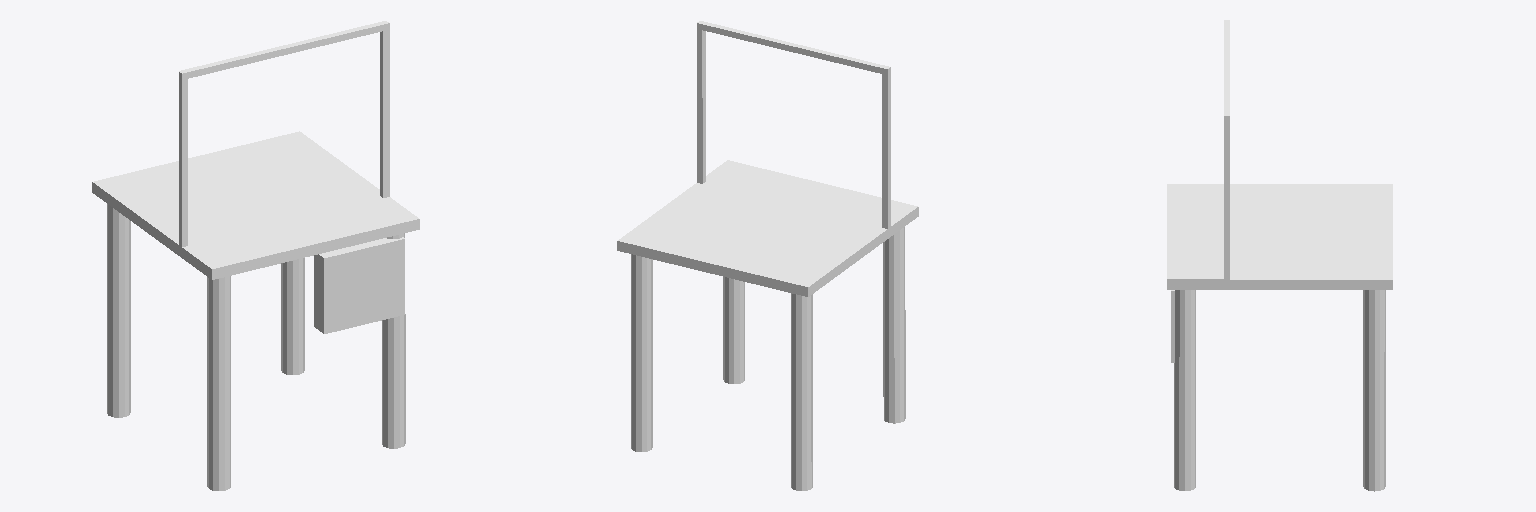
URDF robot description (table_fix):
<robot
  name="table_fix">
  <link
    name="table">
    <inertial>
      <origin
        xyz="-0.0051994 -0.73155 0.047363"
        rpy="0 0 0" />
      <mass
        value="83.702" />
      <inertia
        ixx="19.272"
        ixy="-5.4421E-15"
        ixz="-1.1988E-15"
        iyy="19.98"
        iyz="-0.40239"
        izz="19.55" />
    </inertial>
    <visual>
      <origin
        xyz="0 0 1"
        rpy="1.57 0 0" />
      <geometry>
        <mesh
          filename="package://table_fix/meshes/table.STL" />
      </geometry>
      <material
        name="">
        <color
          rgba="1 1 1 1" />
        <texture
          filename="package://table_fix/textures/table_color.jpg" />
      </material>
    </visual>
    <collision>
      <origin
        xyz="0 0 0"
        rpy="0 0 0" />
      <geometry>
        <mesh
          filename="package://table_fix/meshes/table.STL" />
      </geometry>
    </collision>
  </link>
  <link
    name="left_basket">
    <inertial>
      <origin
        xyz="2.2204E-16 5.5511E-17 0.021353"
        rpy="0 0 0" />
      <mass
        value="2.5011" />
      <inertia
        ixx="0.040801"
        ixy="1.106E-17"
        ixz="-1.1852E-17"
        iyy="0.048536"
        iyz="-1.7392E-17"
        izz="0.085254" />
    </inertial>
    <visual>
      <origin
        xyz="0 0 0"
        rpy="0 0 0" />
      <geometry>
        <mesh
          filename="package://table_fix/meshes/left_basket.STL" />
      </geometry>
      <material
        name="">
        <color
          rgba="1 1 1 1" />
        <texture
          filename="package://table_fix/textures/green.jpg" />
      </material>
    </visual>
    <collision>
      <origin
        xyz="0 0 0"
        rpy="0 0 0" />
      <geometry>
        <mesh
          filename="package://table_fix/meshes/left_basket.STL" />
      </geometry>
    </collision>
  </link>
  <joint
    name="left_fixed"
    type="fixed">
    <origin
      xyz="0.2398 -0.517 0.21594"
      rpy="-1.5708 0 0" />
    <parent
      link="table" />
    <child
      link="left_basket" />
    <axis
      xyz="0 0 0" />
  </joint>
  <link
    name="right_basket">
    <inertial>
      <origin
        xyz="2.2204E-16 -8.3267E-17 0.021353"
        rpy="0 0 0" />
      <mass
        value="2.5011" />
      <inertia
        ixx="0.040801"
        ixy="-1.9019E-19"
        ixz="-1.0672E-17"
        iyy="0.048536"
        iyz="-1.4635E-17"
        izz="0.085254" />
    </inertial>
    <visual>
      <origin
        xyz="0 0 0"
        rpy="0 0 0" />
      <geometry>
        <mesh
          filename="package://table_fix/meshes/right_basket.STL" />
      </geometry>
      <material
        name="">
        <color
          rgba="1 1 1 1" />
        <texture
          filename="package://table_fix/textures/blue.jpg" />
      </material>
    </visual>
    <collision>
      <origin
        xyz="0 0 0"
        rpy="0 0 0" />
      <geometry>
        <mesh
          filename="package://table_fix/meshes/right_basket.STL" />
      </geometry>
    </collision>
  </link>
  <joint
    name="right_fixed"
    type="fixed">
    <origin
      xyz="-0.2502 -0.517 0.21594"
      rpy="-1.5708 0 0" />
    <parent
      link="table" />
    <child
      link="right_basket" />
    <axis
      xyz="0 0 0" />
  </joint>
</robot>

--- Render facts (derived) ---
3 views of the same robot in one strip: view 1: azimuth 30°, elevation 25°; view 2: azimuth 150°, elevation 25°; view 3: azimuth 270°, elevation 25° (orthographic).
Robot: table_fix — 3 links, 2 joints (2 fixed); root link table; default pose: every joint at zero.
Links seen in each view (by area): view 1: table, left_basket; view 2: table; view 3: table.
Boxes of the visible links, x1=… form: table: x1=92, y1=21, x2=419, y2=490; left_basket: x1=314, y1=237, x2=404, y2=333; table: x1=617, y1=21, x2=918, y2=490; table: x1=1167, y1=20, x2=1392, y2=491.
Bounding box of the posed robot: 1 × 1 × 1.85 m (x, y, z).
Meshes: 3 distinct files referenced, 2 mesh visuals loaded (2 binary STL); not drawn: 1 (reference not matched to a file when rendering).